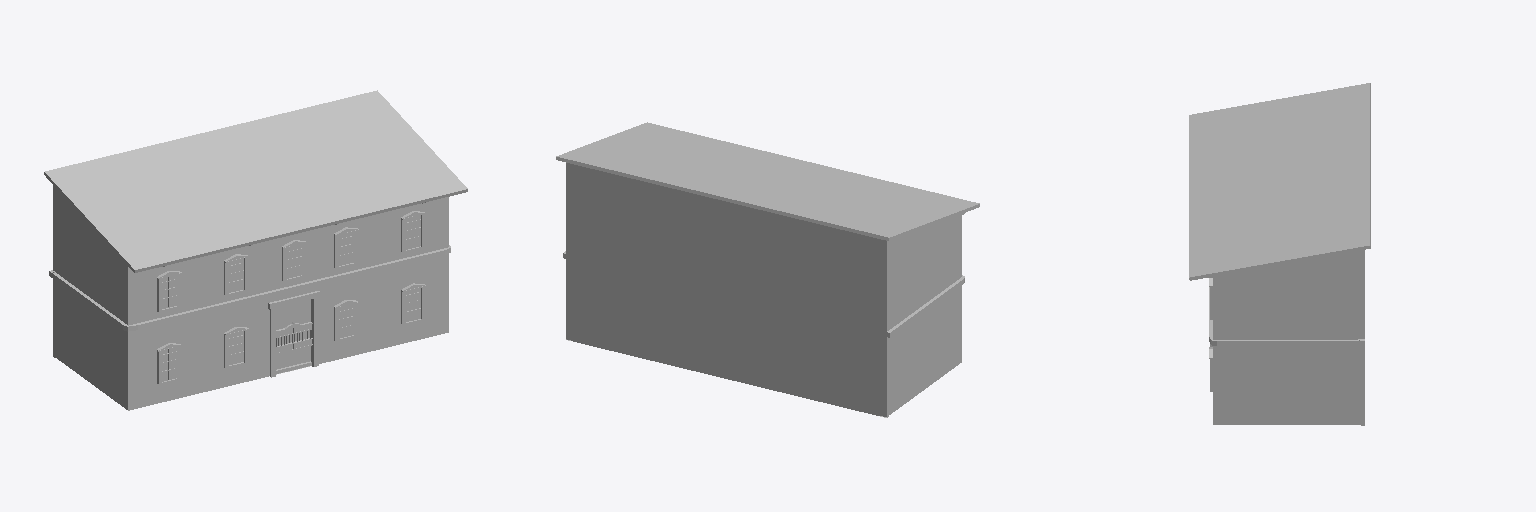
The model's file is Saloon (1).obj.
3 renders of one model, left to right at view 1: azimuth 30°, elevation 25°; view 2: azimuth 150°, elevation 25°; view 3: azimuth 270°, elevation 25°, orthographic.
Parts seen in each view (by area): view 1: Saloon:pCube224saloon1, Saloon:saloonpCube226; view 2: Saloon:pCube224saloon, Saloon:saloonpCube226, Saloon:pCube224saloon1; view 3: Saloon:saloonpCube226, Saloon:pCube224saloon1.
Part boxes in pixels (left/top/right/bottom): Saloon:pCube224saloon1: left=49, top=185, right=450, bottom=410; Saloon:saloonpCube226: left=44, top=90, right=467, bottom=272; Saloon:pCube224saloon: left=564, top=164, right=890, bottom=417; Saloon:saloonpCube226: left=556, top=122, right=979, bottom=240; Saloon:pCube224saloon1: left=563, top=163, right=964, bottom=416; Saloon:saloonpCube226: left=1189, top=83, right=1370, bottom=280; Saloon:pCube224saloon1: left=1209, top=250, right=1364, bottom=424.
Size of the model in its own units: 52 by 27.42 by 24.63.